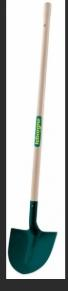PELLE: (3, 2, 68, 291)
